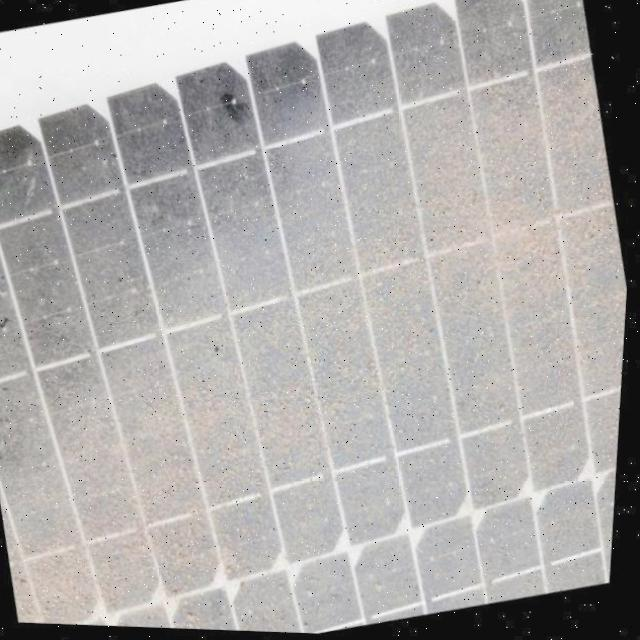Surface Contaminant: (0, 38, 538, 593)
